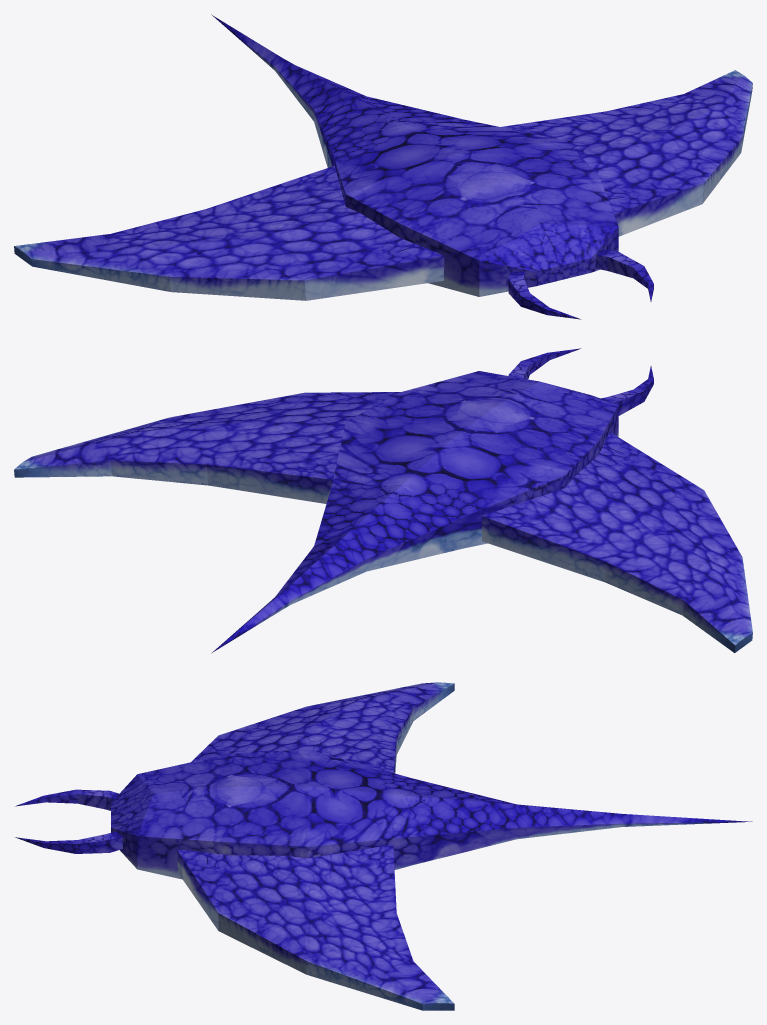
File: ioray.obj
The picture shows the model from 3 angles, top to bottom: view 1: azimuth 30°, elevation 25°; view 2: azimuth 150°, elevation 25°; view 3: azimuth 270°, elevation 25°; orthographic projection. The views are drawn at different scales.
Visible parts, largest first — view 1: Body, ArmRight, ArmLeft, MouthLeft, MouthRight; view 2: Body, ArmRight, ArmLeft, MouthRight, MouthLeft; view 3: Body, ArmLeft, ArmRight, MouthLeft, MouthRight.
Part boxes in pixels (bbox=[...]): Body: bbox=[211, 14, 618, 296]; ArmRight: bbox=[14, 166, 444, 300]; ArmLeft: bbox=[501, 70, 752, 236]; MouthLeft: bbox=[596, 249, 653, 301]; MouthRight: bbox=[508, 272, 581, 319]; Body: bbox=[211, 371, 618, 653]; ArmRight: bbox=[482, 432, 752, 652]; ArmLeft: bbox=[14, 392, 400, 503]; MouthRight: bbox=[601, 366, 653, 415]; MouthLeft: bbox=[508, 348, 581, 379]; Body: bbox=[111, 749, 752, 879]; ArmLeft: bbox=[177, 844, 454, 1010]; ArmRight: bbox=[191, 682, 454, 773]; MouthLeft: bbox=[15, 831, 122, 853]; MouthRight: bbox=[15, 789, 118, 810].
Size of the model in its own units: 5.79 by 0.5376 by 5.64.
